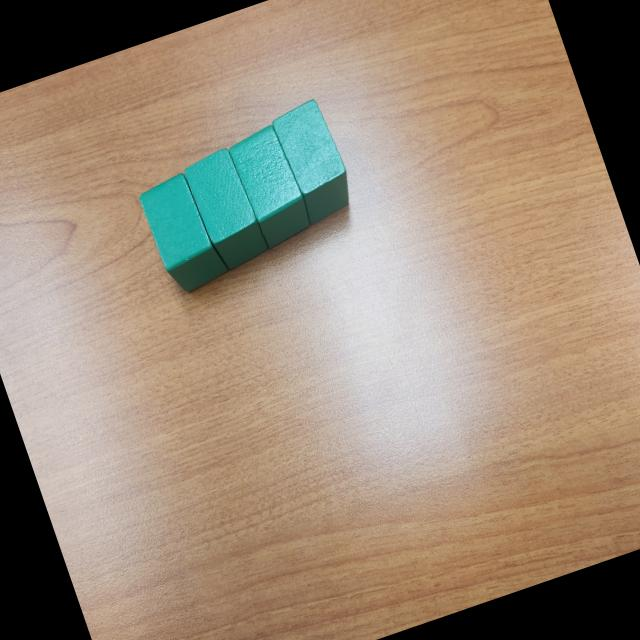green: (134, 168, 230, 296), (224, 120, 316, 252), (180, 145, 272, 275), (268, 96, 359, 226)
